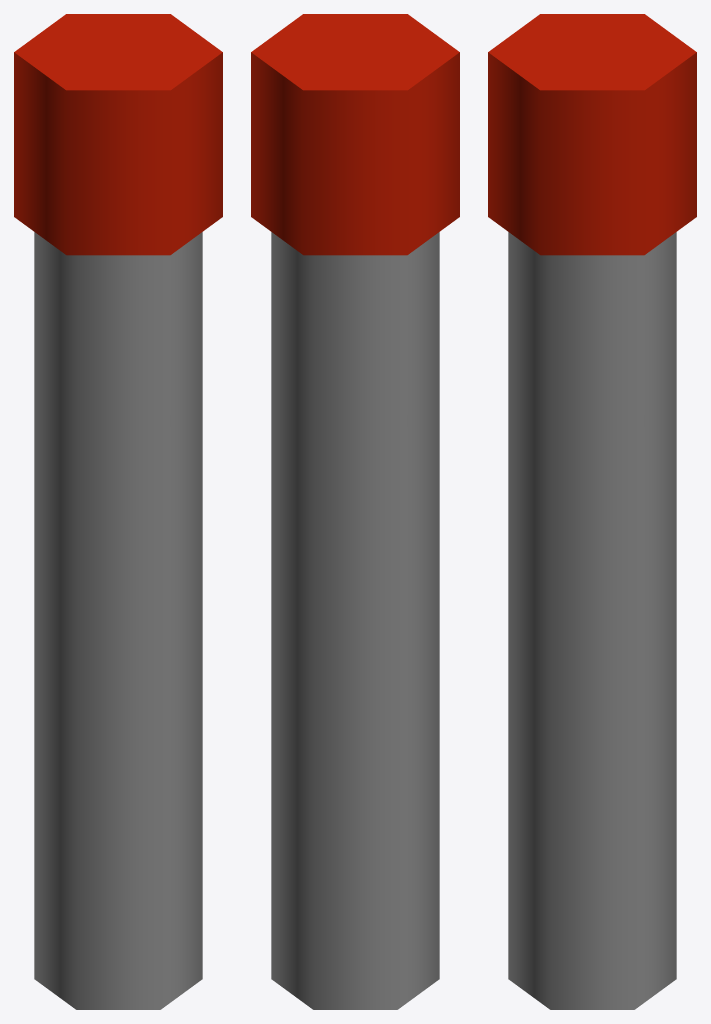
Rendered from lever.fbx.
The picture shows the model from 3 angles, left to right: view 1: azimuth 30°, elevation 25°; view 2: azimuth 150°, elevation 25°; view 3: azimuth 270°, elevation 25°; orthographic projection.
Visible parts, largest first — view 1: Lever; view 2: Lever; view 3: Lever.
Boxes of the visible parts, x1,y1,x2,y2 form: Lever: (14, 14, 222, 1009); Lever: (251, 14, 459, 1009); Lever: (488, 14, 696, 1009).
Size of the model in its own units: 2.15 by 12.16 by 2.48.
